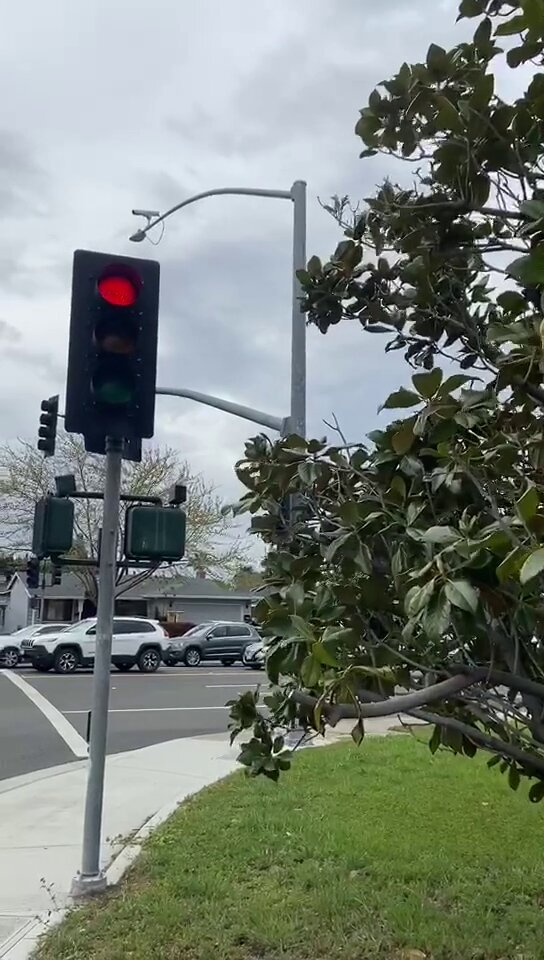red_light: (76, 260, 150, 429)
